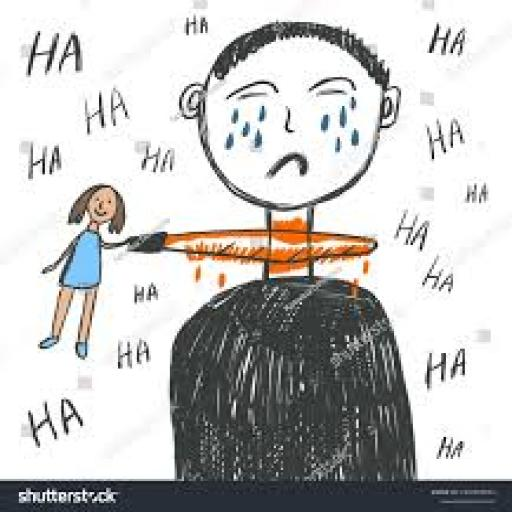person: (154, 18, 421, 485), (29, 178, 136, 365)
